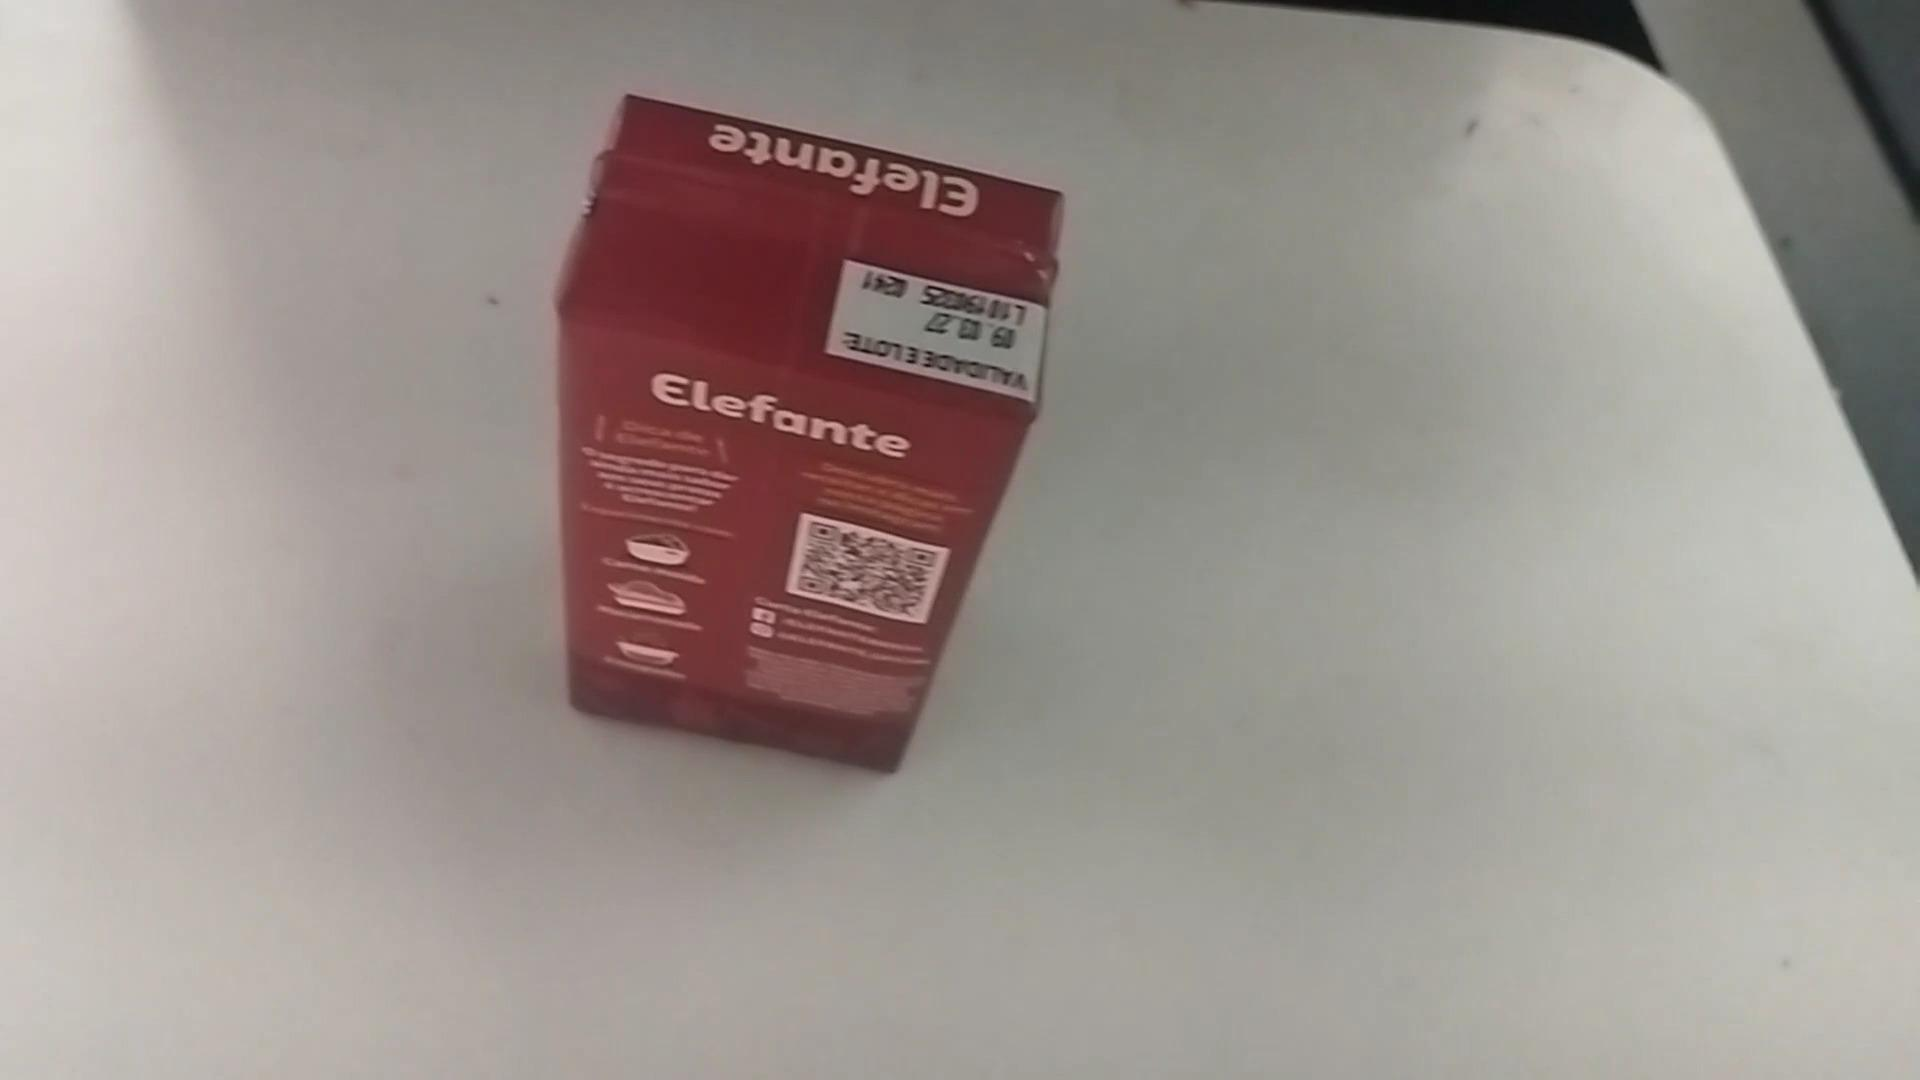tomate: (553, 95, 1067, 774)
